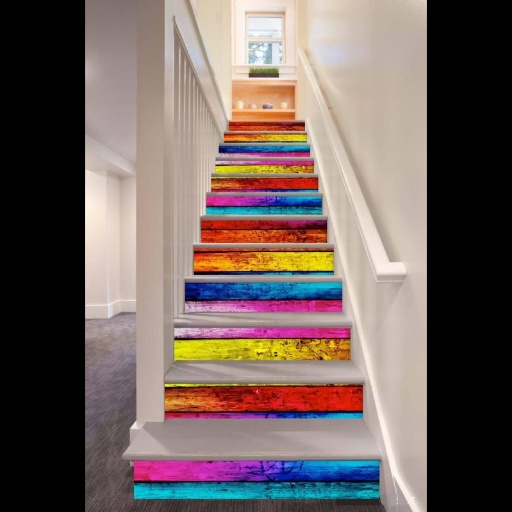Stairs: (124, 110, 383, 499)
